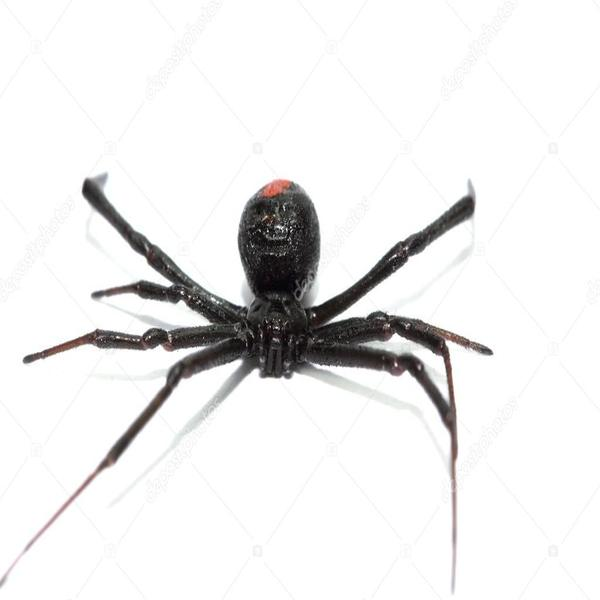Redback_Spider: (16, 174, 492, 585)
